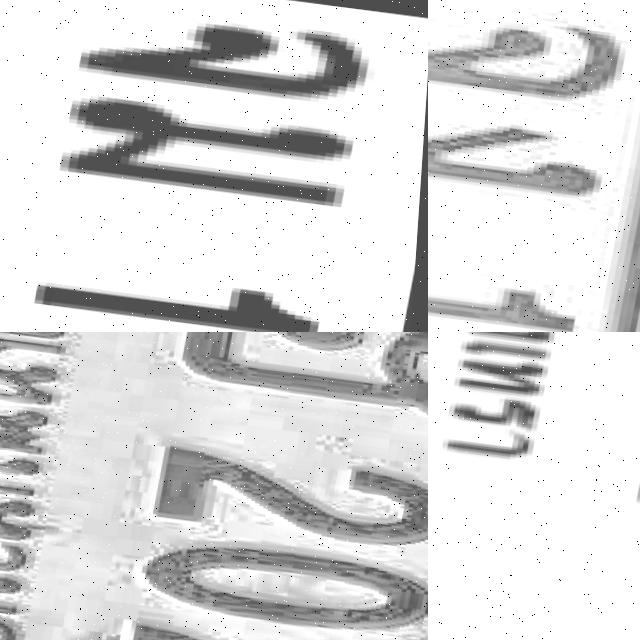license-plate: (0, 0, 428, 332), (0, 332, 428, 640), (428, 0, 640, 332), (428, 332, 640, 640)
